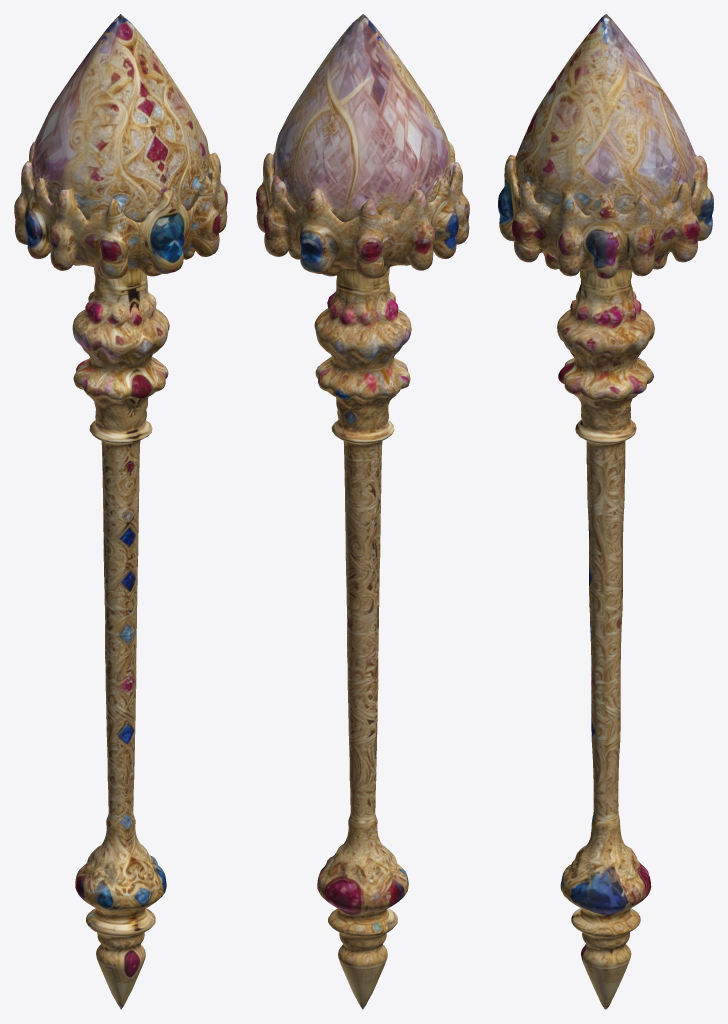
File: scepter.glb
3 views of the same model, side by side, from view 1: azimuth 30°, elevation 25°; view 2: azimuth 150°, elevation 25°; view 3: azimuth 270°, elevation 25° (orthographic).
Size of the model in its own units: 0.3921 by 1.99 by 0.3909.
Materials: 1 (1 with a texture image).
